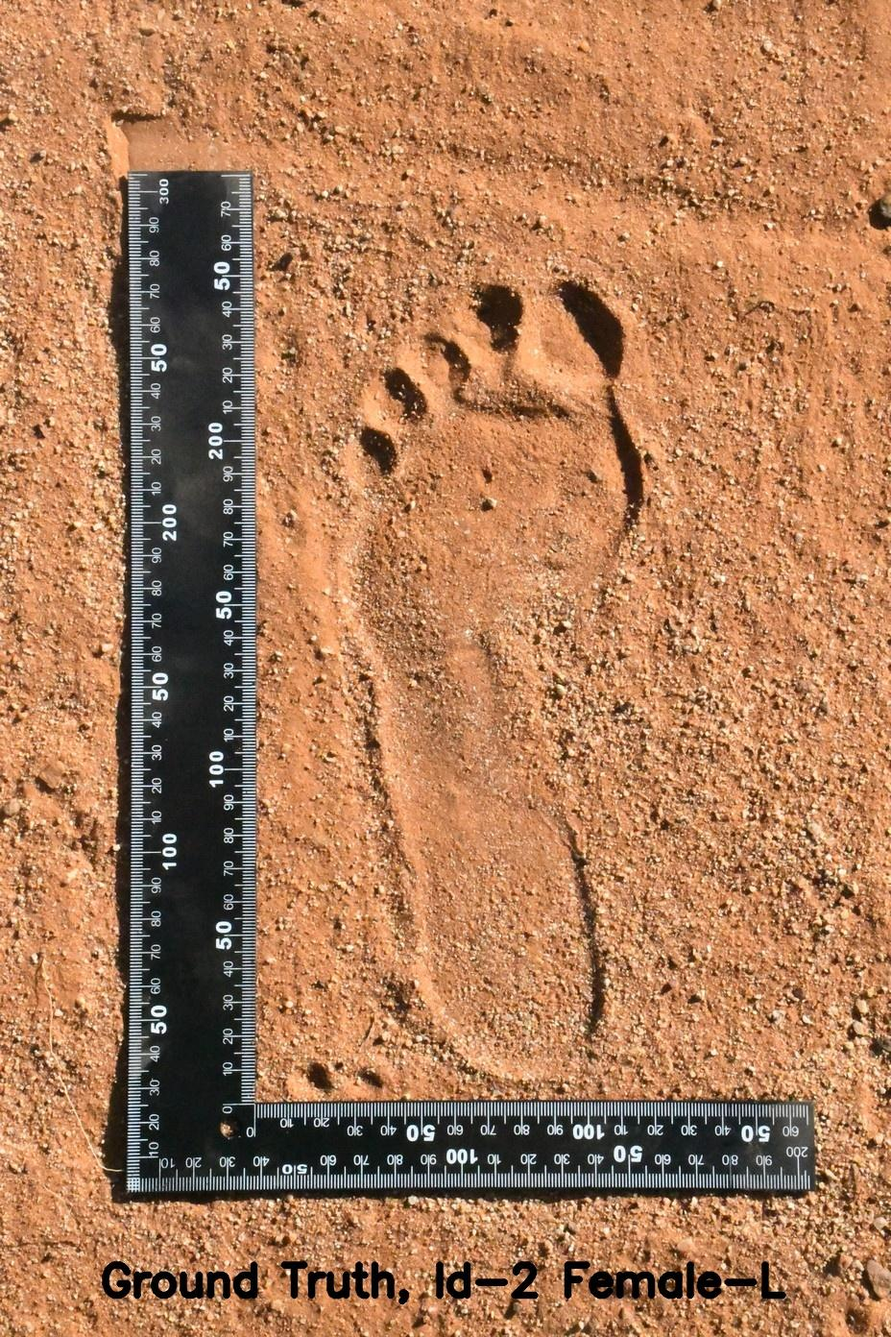human_footprint: (298, 225, 692, 1095)
